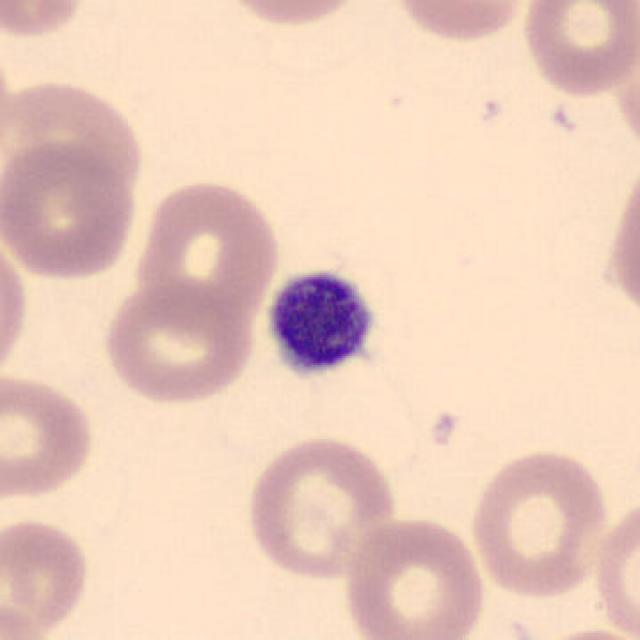Platelets: (258, 261, 386, 390)
RBC: (242, 432, 402, 582), (132, 174, 282, 328), (466, 444, 612, 602), (98, 279, 260, 407), (0, 136, 142, 282), (2, 74, 149, 208), (339, 513, 489, 640), (0, 368, 100, 504), (518, 0, 638, 99), (0, 513, 94, 637), (590, 492, 638, 640), (388, 0, 535, 46), (601, 157, 640, 328), (210, 0, 372, 32), (0, 229, 32, 386), (0, 0, 91, 44), (0, 596, 53, 640), (526, 624, 638, 640)
